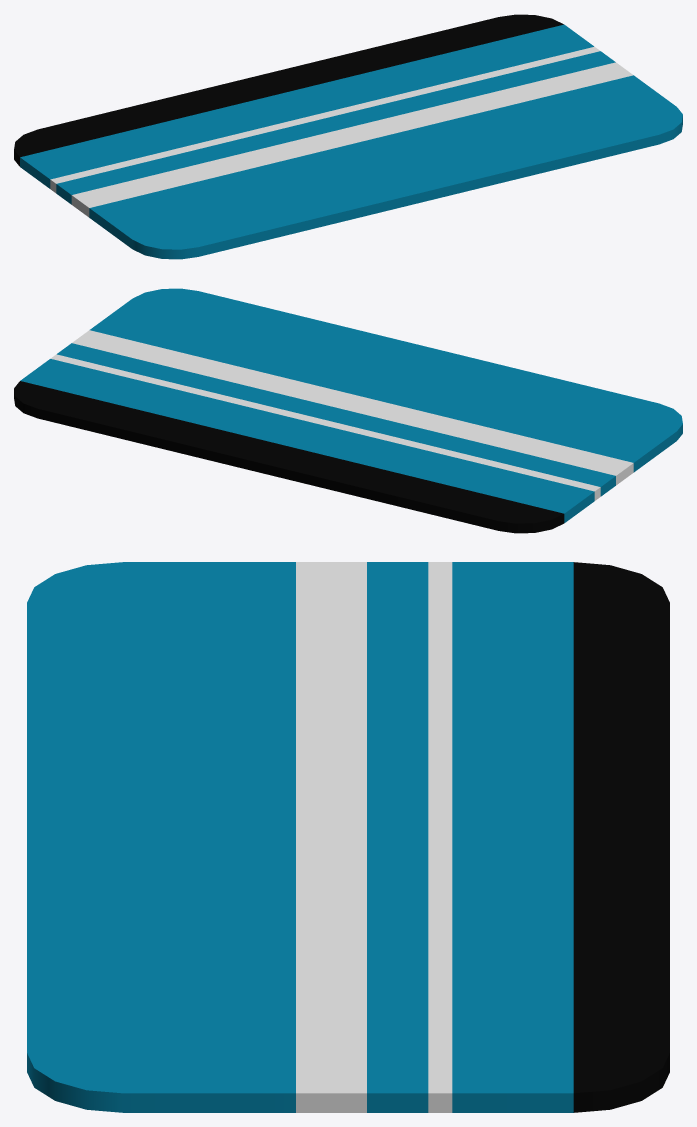
The model's file is Keycard.fbx.
3 renders of one model, top to bottom at view 1: azimuth 30°, elevation 25°; view 2: azimuth 150°, elevation 25°; view 3: azimuth 270°, elevation 25°, orthographic. The views are drawn at different scales.
Visible parts, largest first — view 1: pCube1; view 2: pCube1; view 3: pCube1.
Boxes of the visible parts, x1,y1,x2,y2 form: pCube1: (14, 14, 682, 259); pCube1: (14, 288, 682, 533); pCube1: (27, 562, 669, 1112).
Bounding box in the file's own units: 6.97 × 0.1194 × 3.57.
